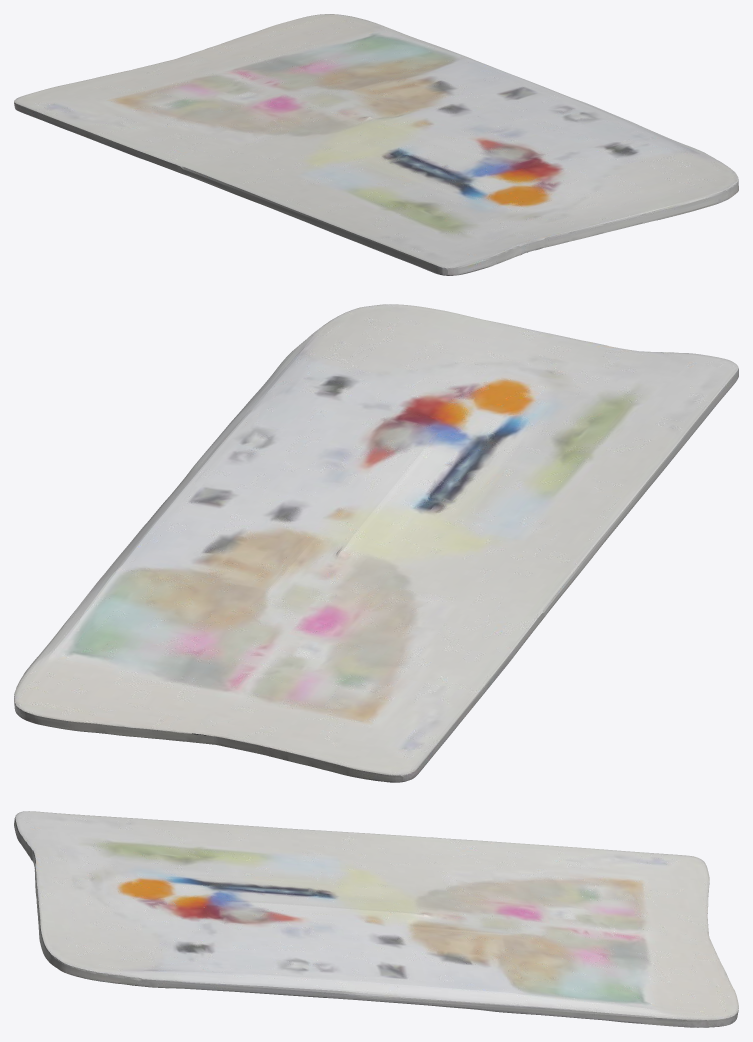
The model's file is magazine_on_the_table_000.glb.
3 renders of one model, top to bottom at view 1: azimuth 30°, elevation 25°; view 2: azimuth 150°, elevation 25°; view 3: azimuth 270°, elevation 25°, orthographic. The views are drawn at different scales.
Parts seen in each view (by area): view 1: magazine_on_the_table_000.obj; view 2: magazine_on_the_table_000.obj; view 3: magazine_on_the_table_000.obj.
Boxes of the visible parts, x1=… form: magazine_on_the_table_000.obj: x1=14, y1=14, x2=738, y2=275; magazine_on_the_table_000.obj: x1=14, y1=304, x2=738, y2=782; magazine_on_the_table_000.obj: x1=14, y1=811, x2=738, y2=1027.
Bounding box in the file's own units: 0.2345 × 0.0558 × 0.3927.
1 material, 1 textured.
